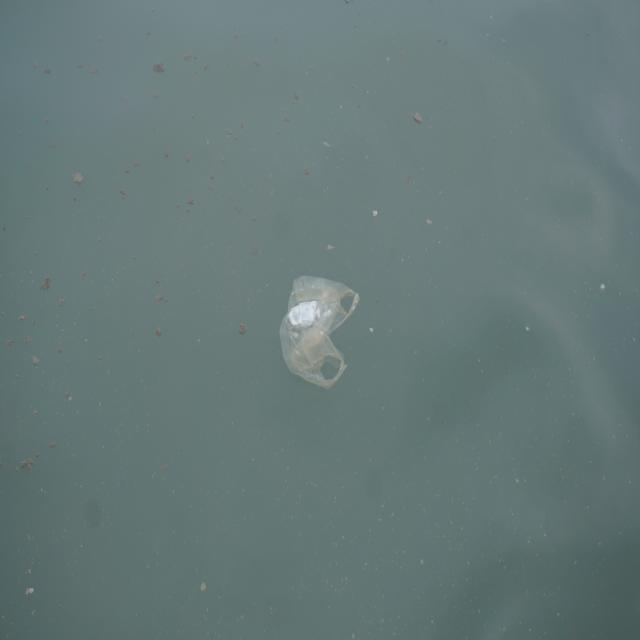Kantong Plastik: (280, 269, 363, 398)
